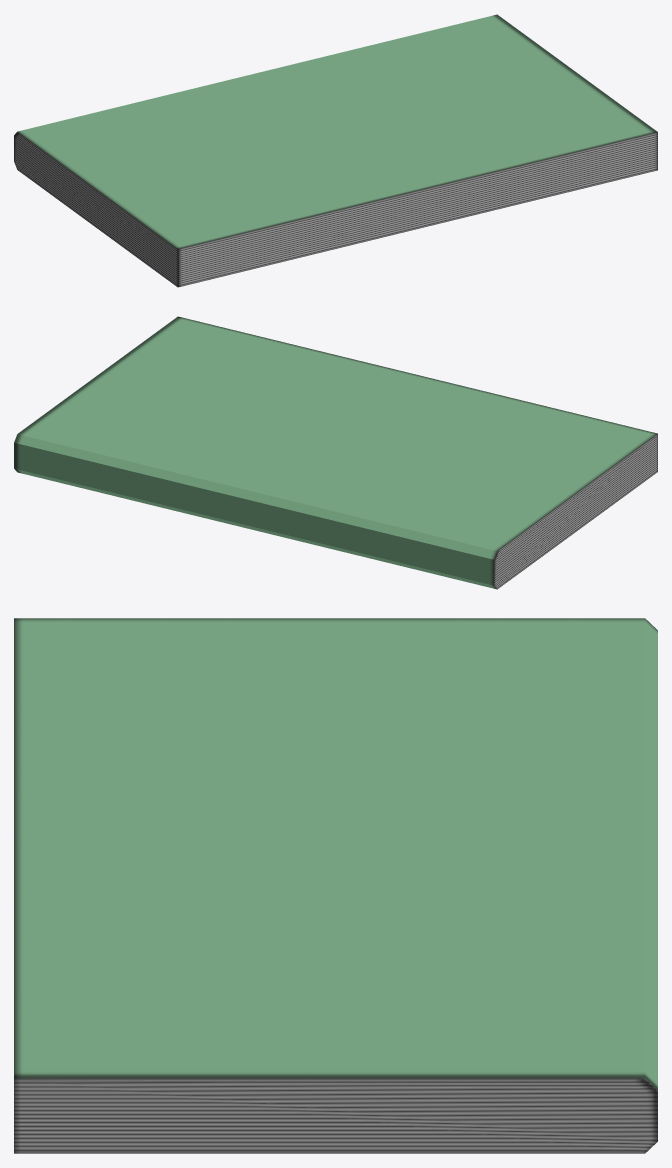
File: book8.fbx
3 views of the same model, one above another, from view 1: azimuth 30°, elevation 25°; view 2: azimuth 150°, elevation 25°; view 3: azimuth 270°, elevation 25° (orthographic). The views are drawn at different scales.
Parts seen in each view (by area): view 1: polySurface1121; view 2: polySurface1121; view 3: polySurface1121.
Boxes of the visible parts, bbox=[...] form: polySurface1121: bbox=[14, 14, 657, 287]; polySurface1121: bbox=[14, 316, 657, 589]; polySurface1121: bbox=[14, 618, 657, 1153].
Bounding box in the file's own units: 0.4212 × 0.0322 × 0.2491.
